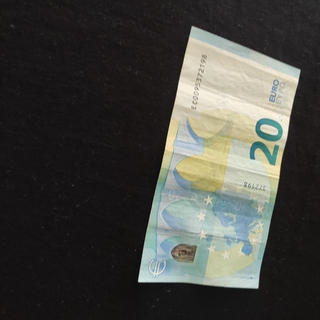20EUROBack: (137, 25, 300, 288)
